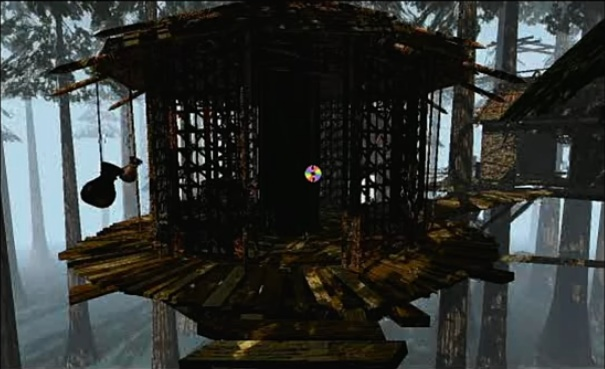Waiting: (301, 162, 324, 184)
